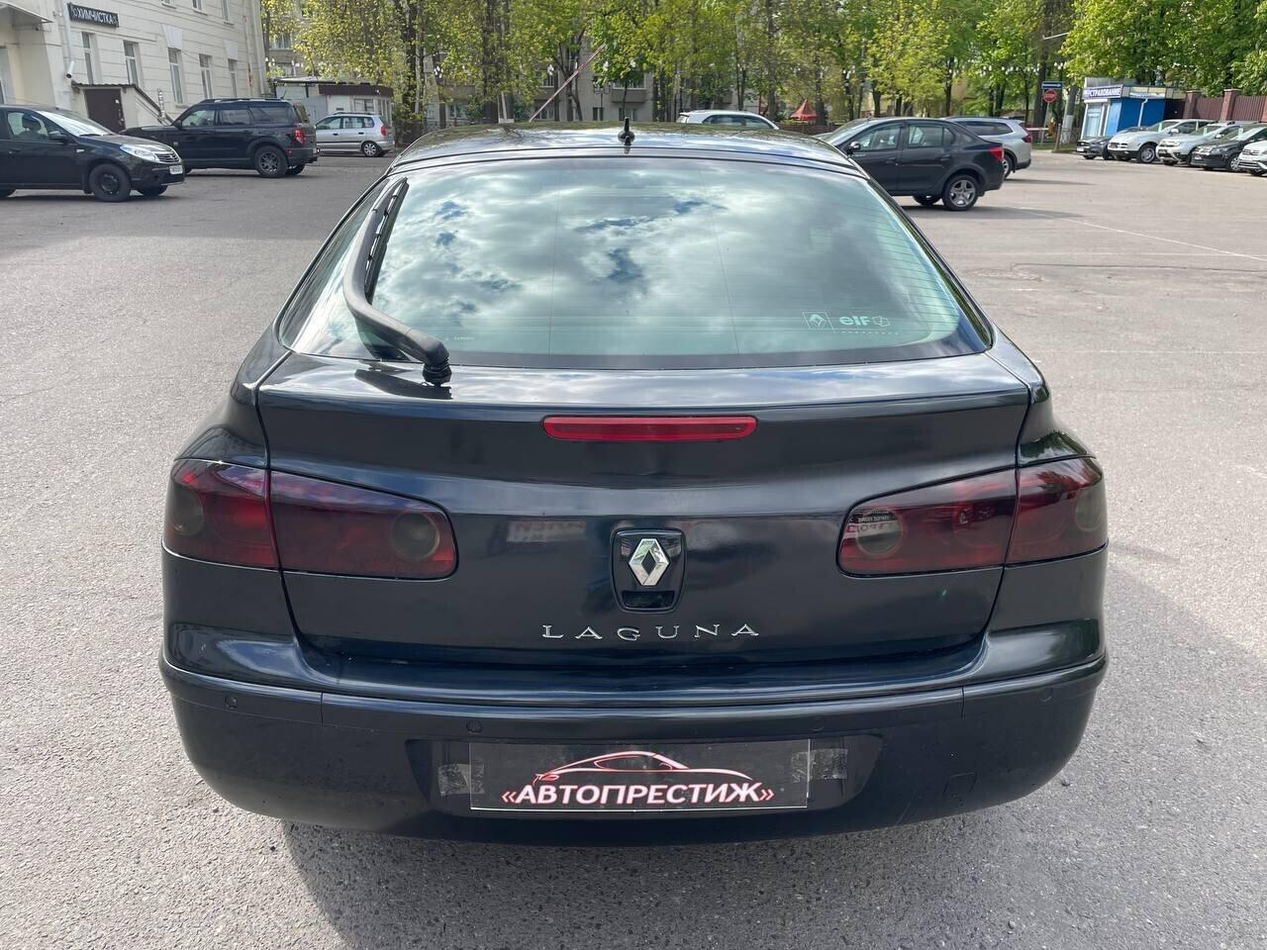Laguna_2005-2007: (157, 116, 1114, 852)
